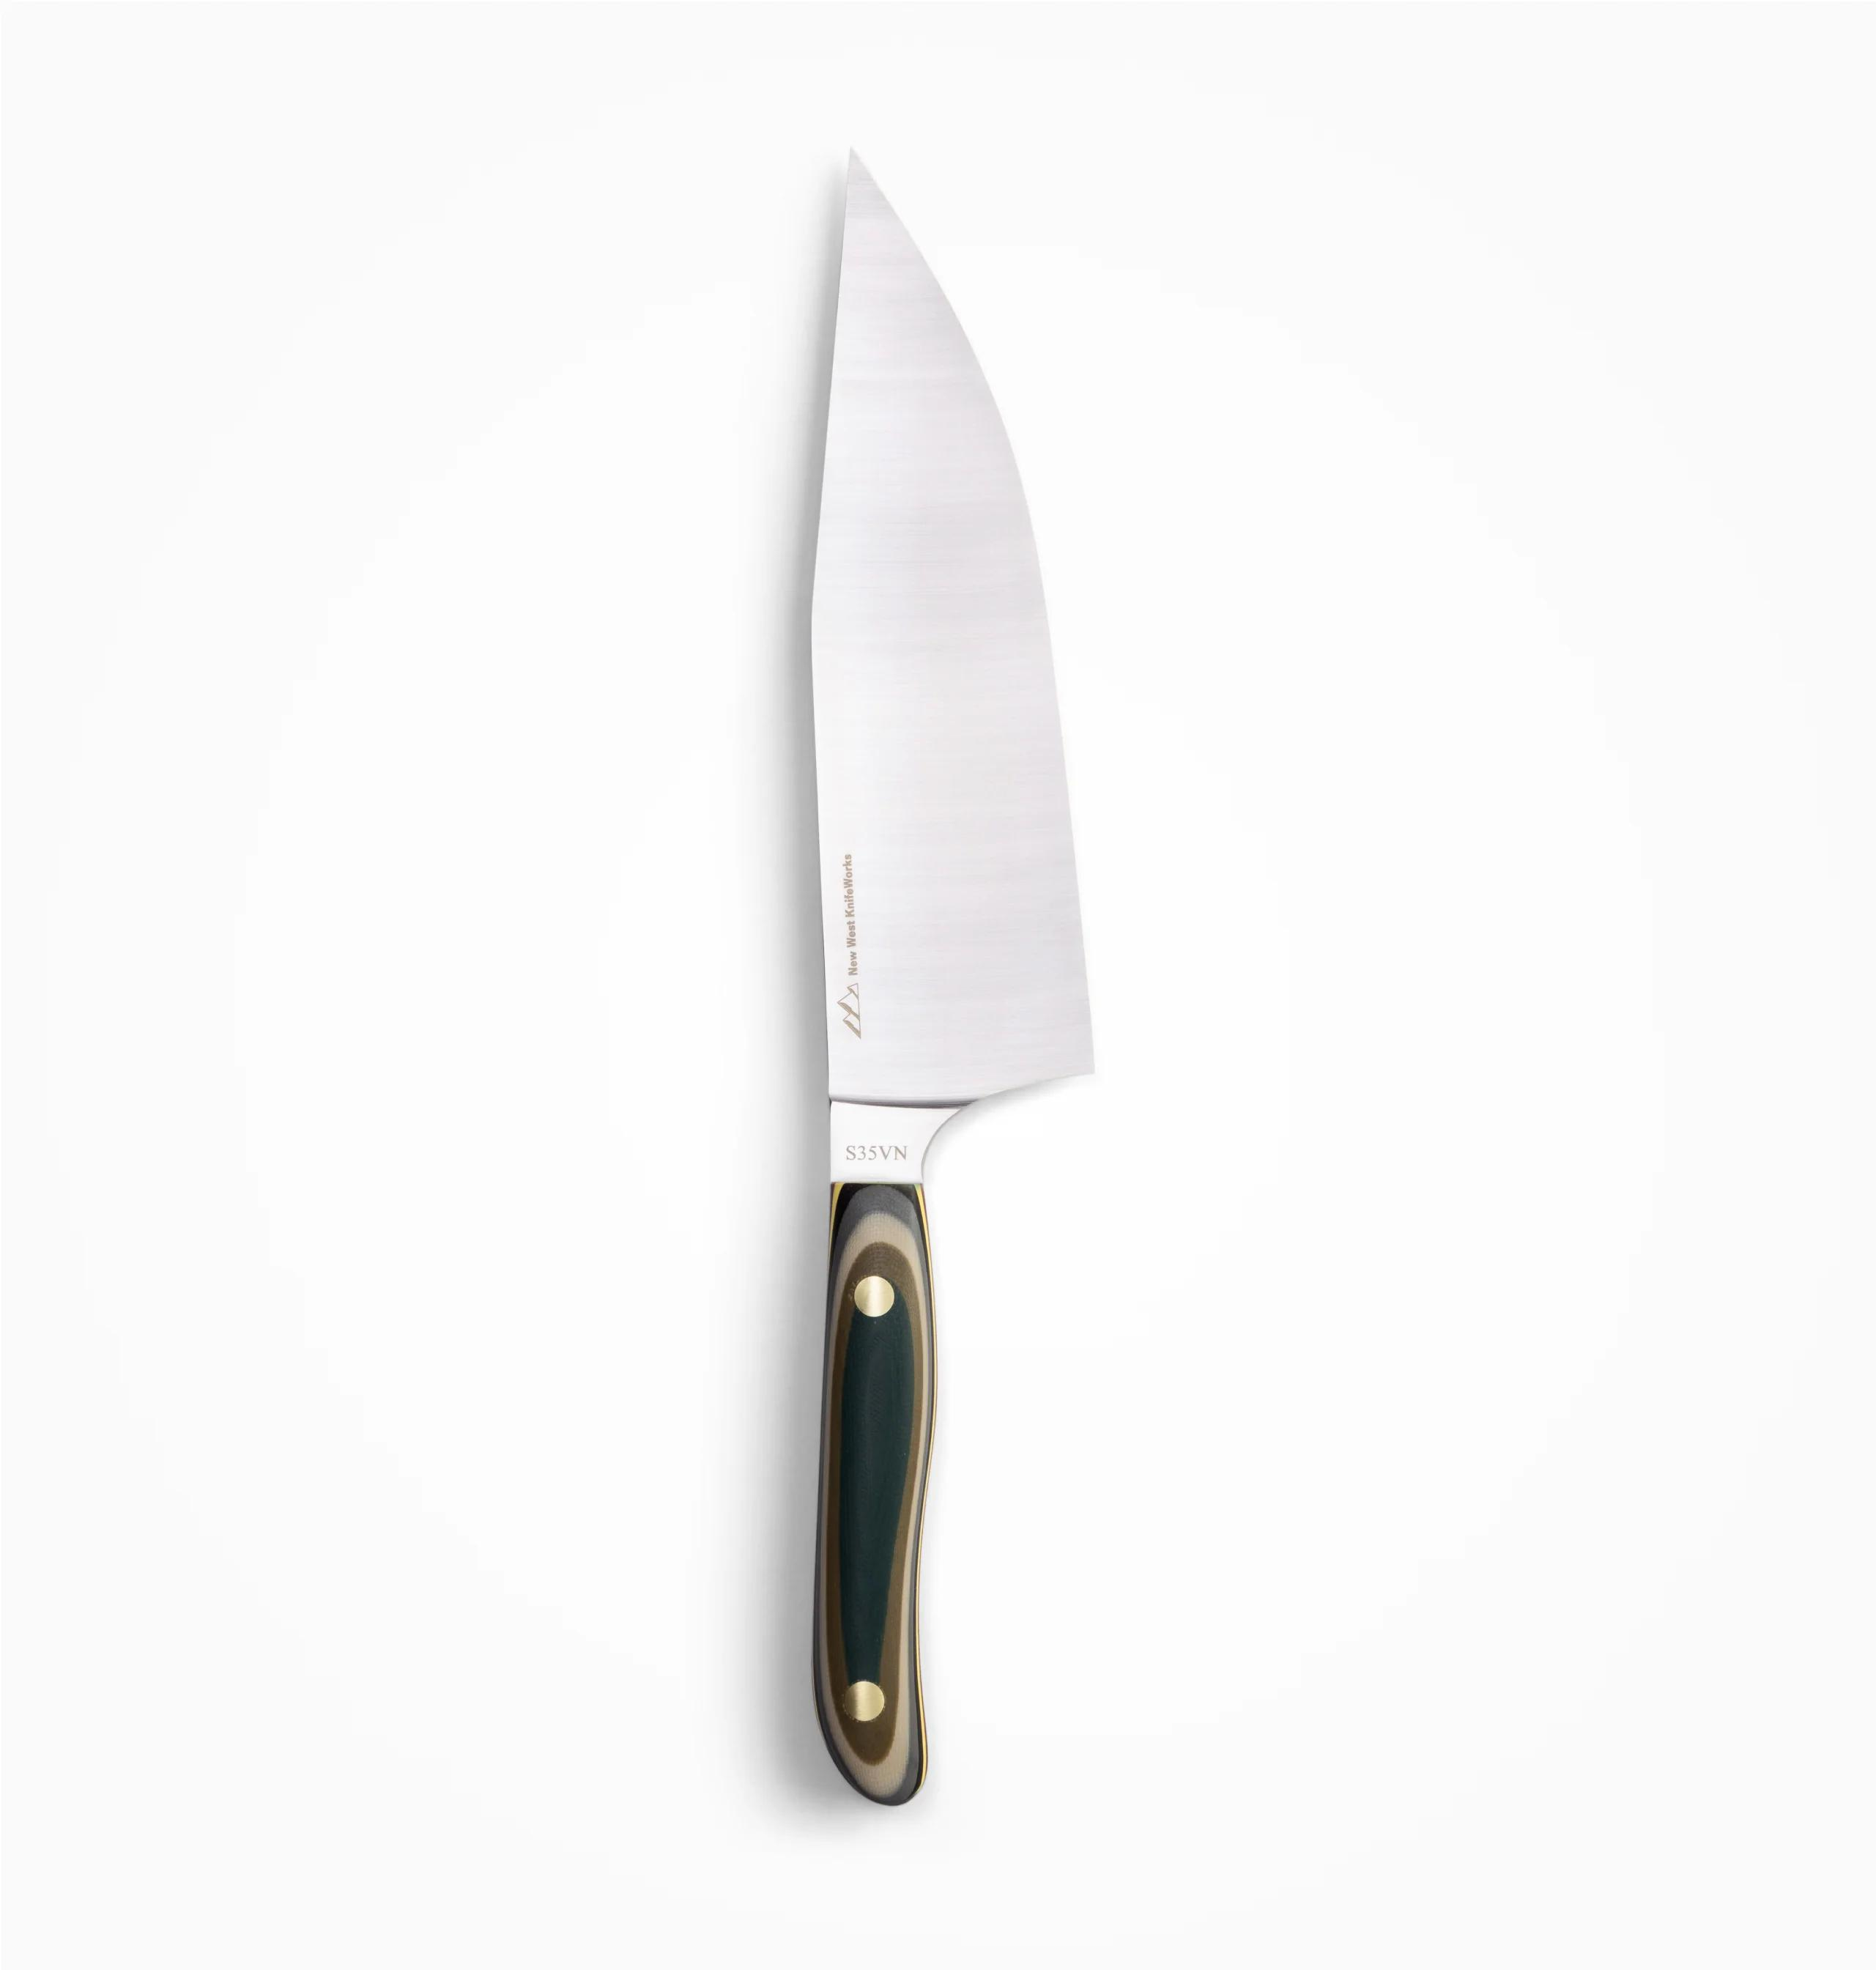knife: (768, 114, 1102, 1812)
